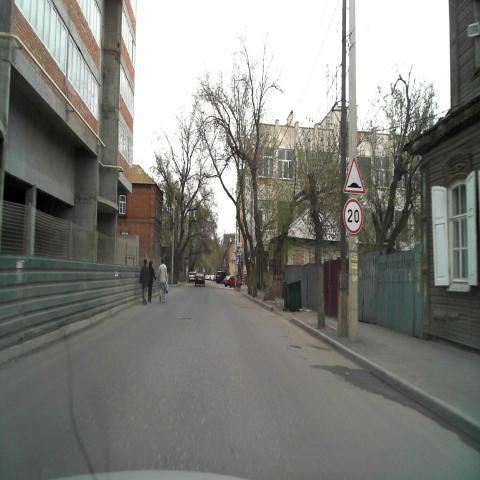1_17: (342, 155, 366, 196)
3_24: (343, 198, 364, 236)
